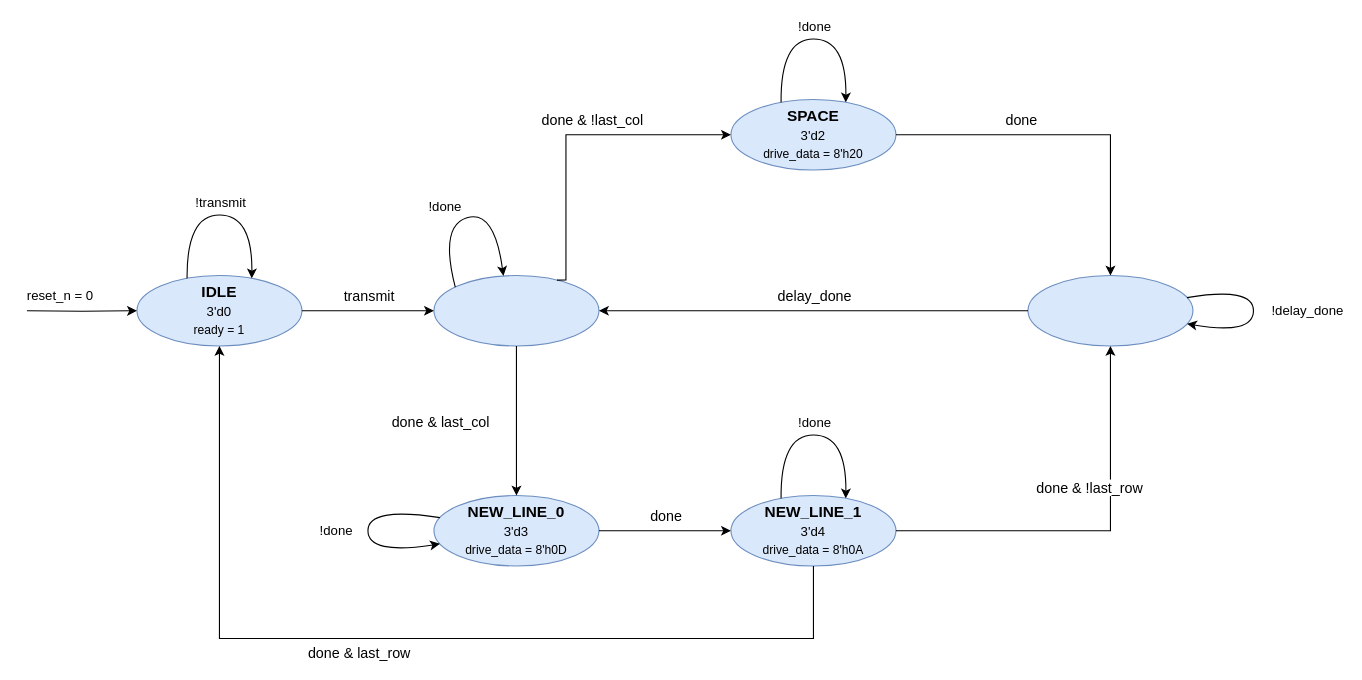
Image size: 1362x680. Some labels were removed from this diagram. Each missing label, with the centre of its shape:
DATA 3'd1 drive_data = data: [516,310]
WAIT 3'd5 delay_cnt counts: [1110,310]
